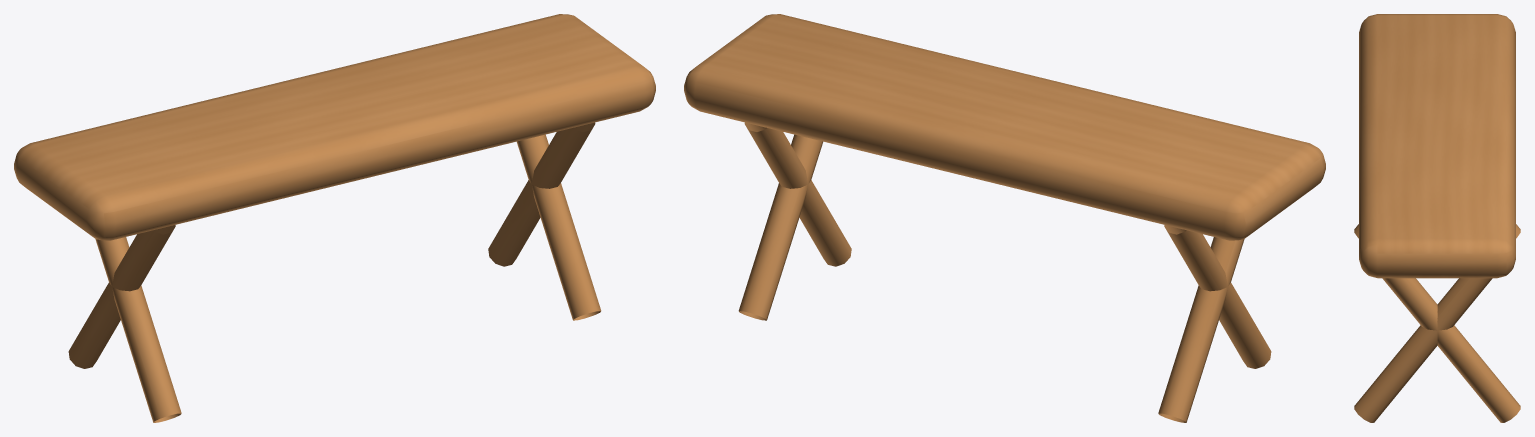
Rendered from Cafe_Folding_Bench.fbx.
3 views of the same model, side by side, from view 1: azimuth 30°, elevation 25°; view 2: azimuth 150°, elevation 25°; view 3: azimuth 270°, elevation 25° (orthographic). The views are drawn at different scales.
Visible parts, largest first — view 1: IMG2_ENV_Folding_Bench; view 2: IMG2_ENV_Folding_Bench; view 3: IMG2_ENV_Folding_Bench.
Boxes of the visible parts, x1=… form: IMG2_ENV_Folding_Bench: x1=14, y1=14, x2=655, y2=422; IMG2_ENV_Folding_Bench: x1=684, y1=14, x2=1325, y2=422; IMG2_ENV_Folding_Bench: x1=1354, y1=14, x2=1520, y2=422.
Bounding box in the file's own units: 86.4 × 34.73 × 25.45.
